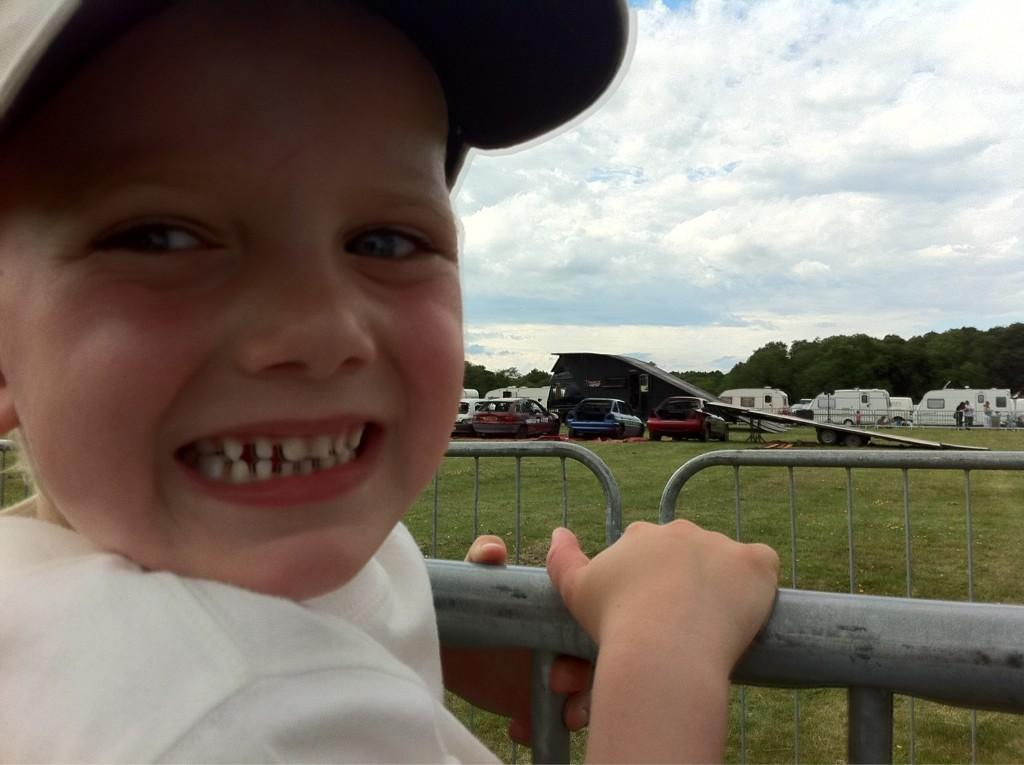Hat: (0, 0, 641, 196)
